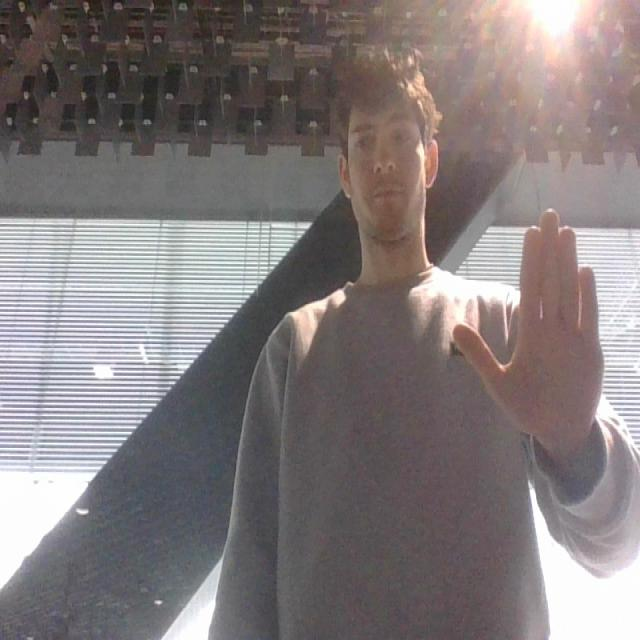backward: (444, 198, 618, 454)
